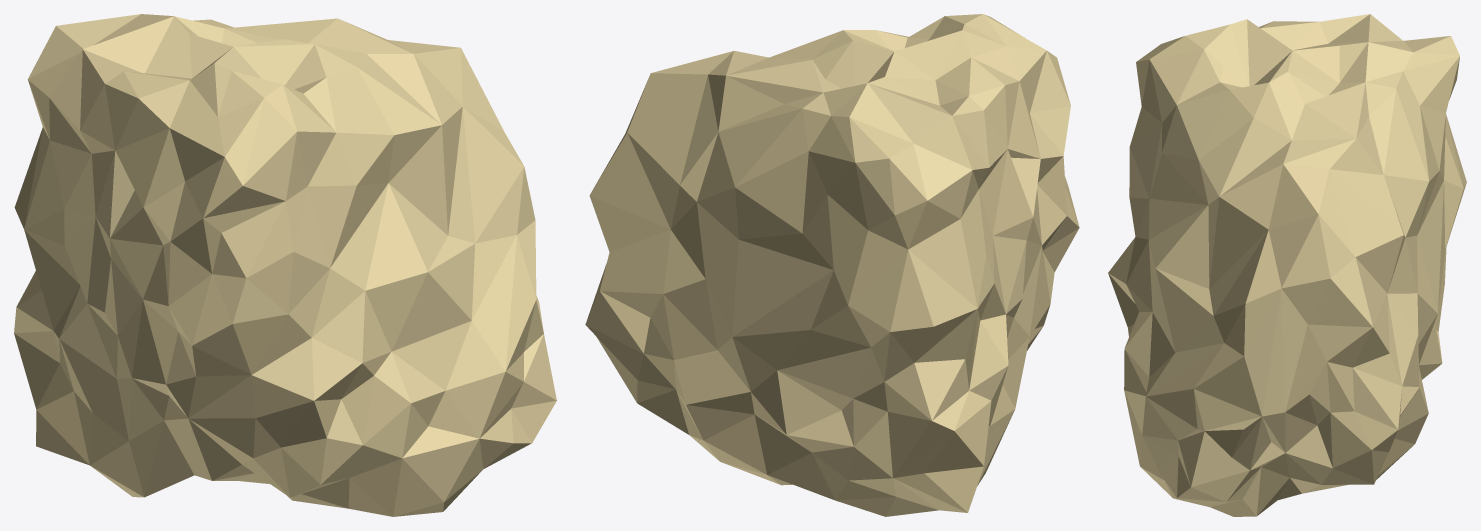
File: Asteroid (40).fbx
3 renders of one model, left to right at view 1: azimuth 30°, elevation 25°; view 2: azimuth 150°, elevation 25°; view 3: azimuth 270°, elevation 25°, orthographic. The views are drawn at different scales.
Visible parts, largest first — view 1: Asteroid167; view 2: Asteroid167; view 3: Asteroid167.
Boxes of the visible parts, bbox=[...] form: Asteroid167: bbox=[14, 14, 556, 516]; Asteroid167: bbox=[585, 14, 1079, 516]; Asteroid167: bbox=[1108, 14, 1466, 516].
Bounding box in the file's own units: 505 × 535 × 424.
